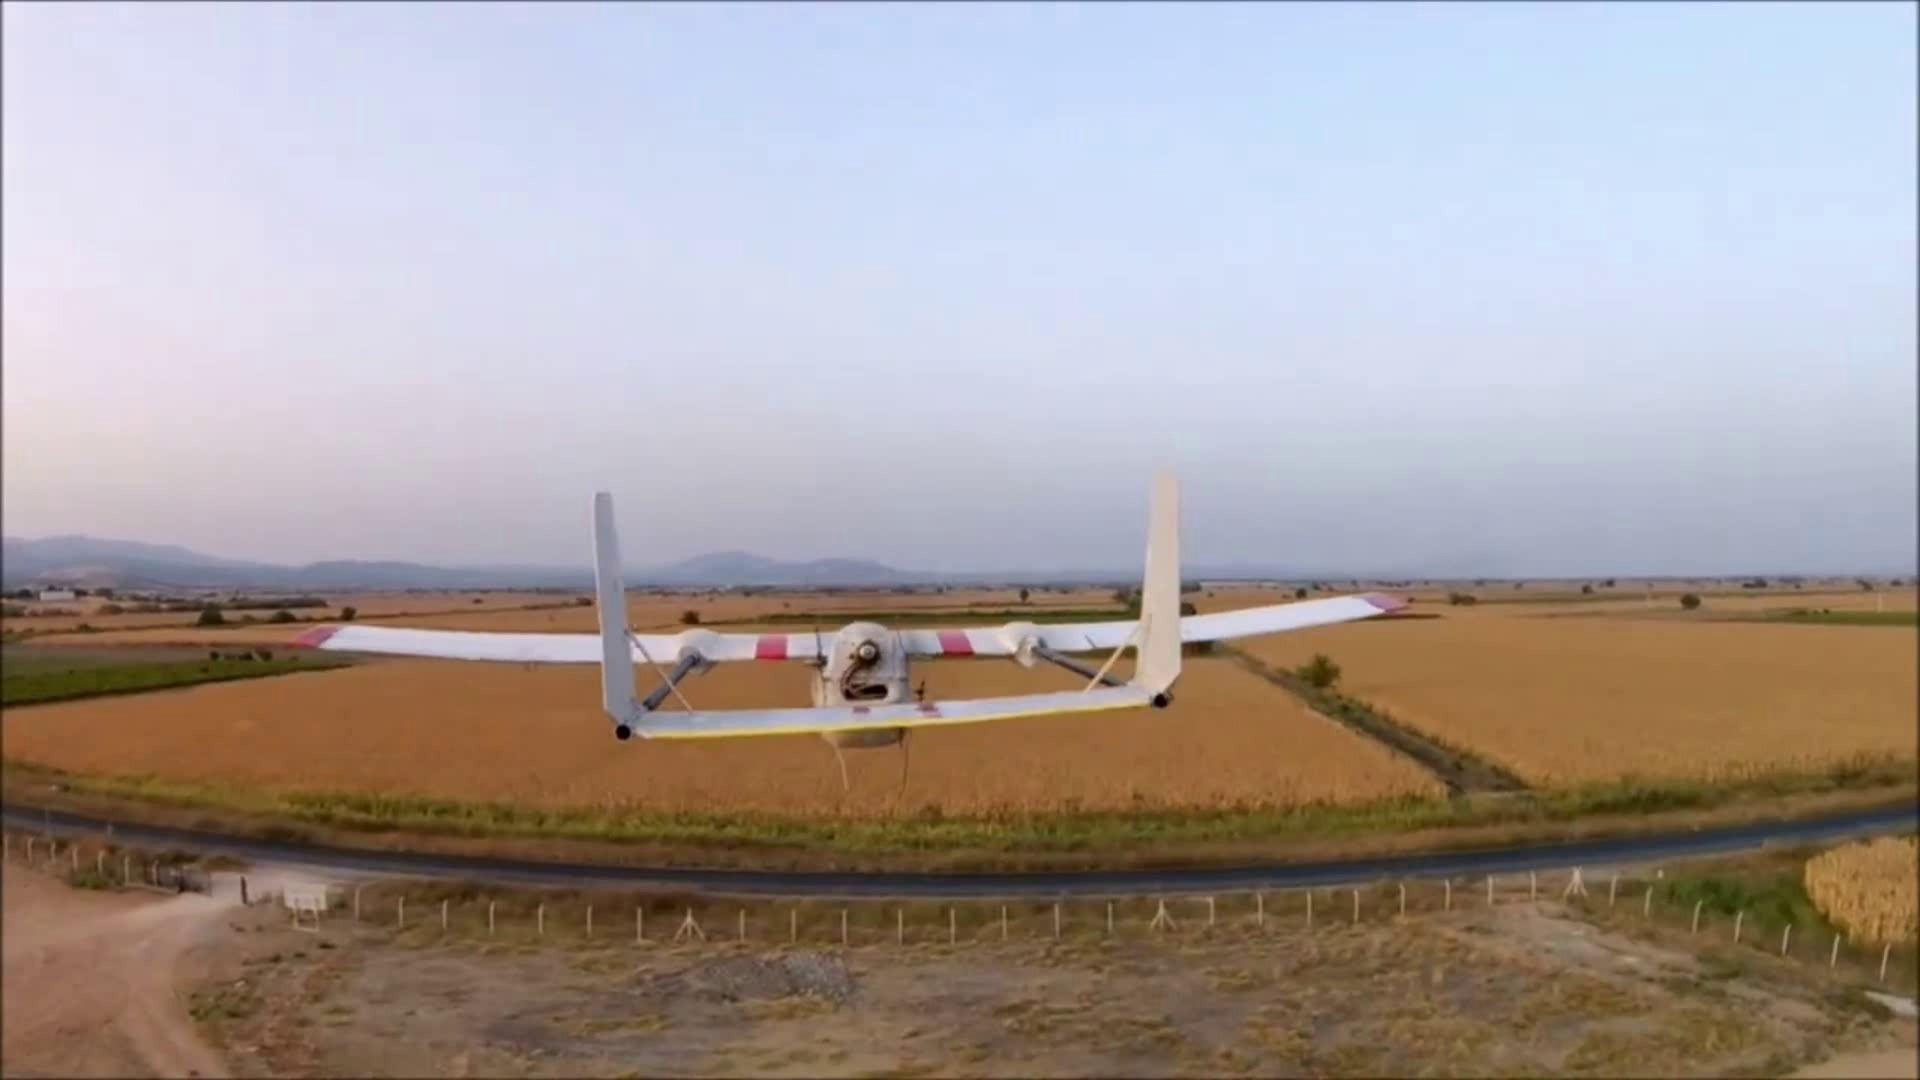airplane: (327, 482, 1441, 739)
